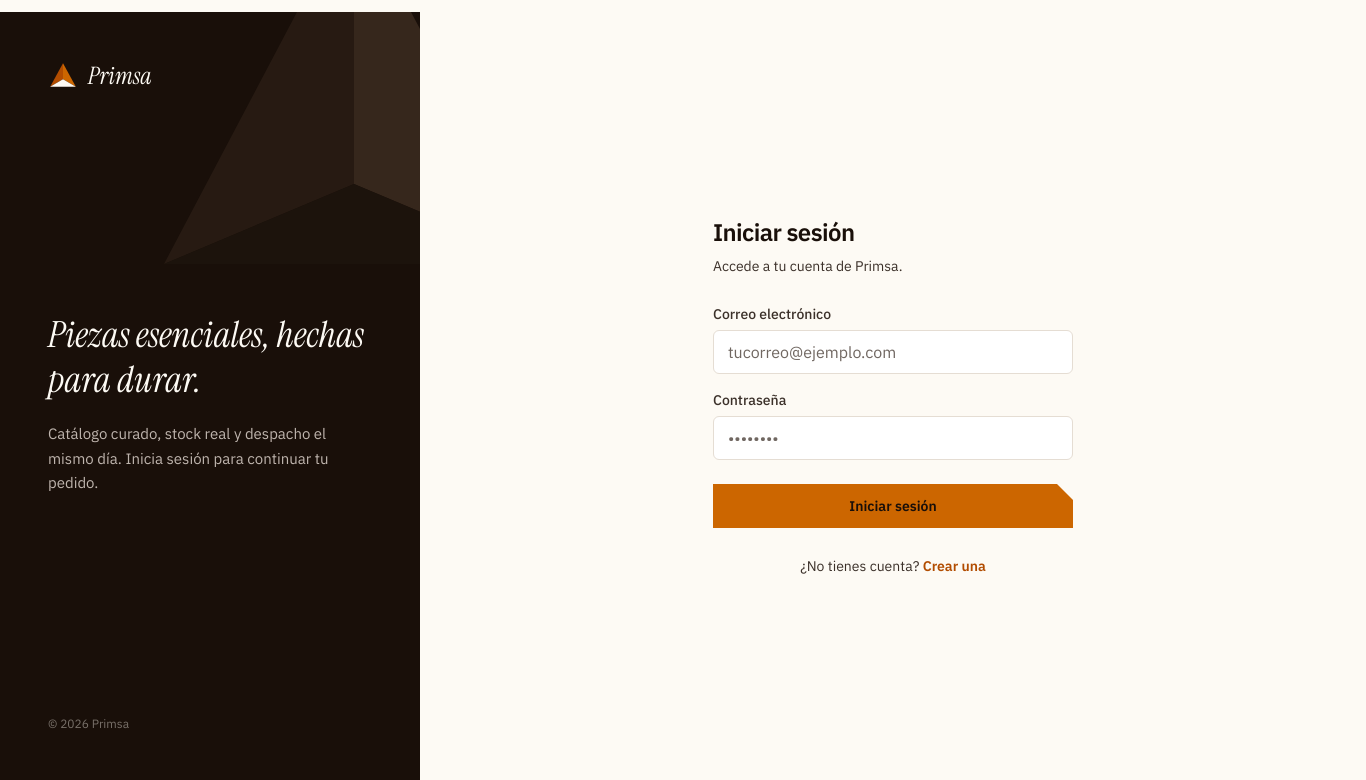
Test: login flow (api mocked, contract verified live — section 4.1) › shows the backend detail message on a 401 instead of a generic error
This screenshot has width=1366, height=780.
Step 1. Type "ana@correo.com" into the field labelled "Correo electrónico" → (893, 352), box [713,330,1073,374]
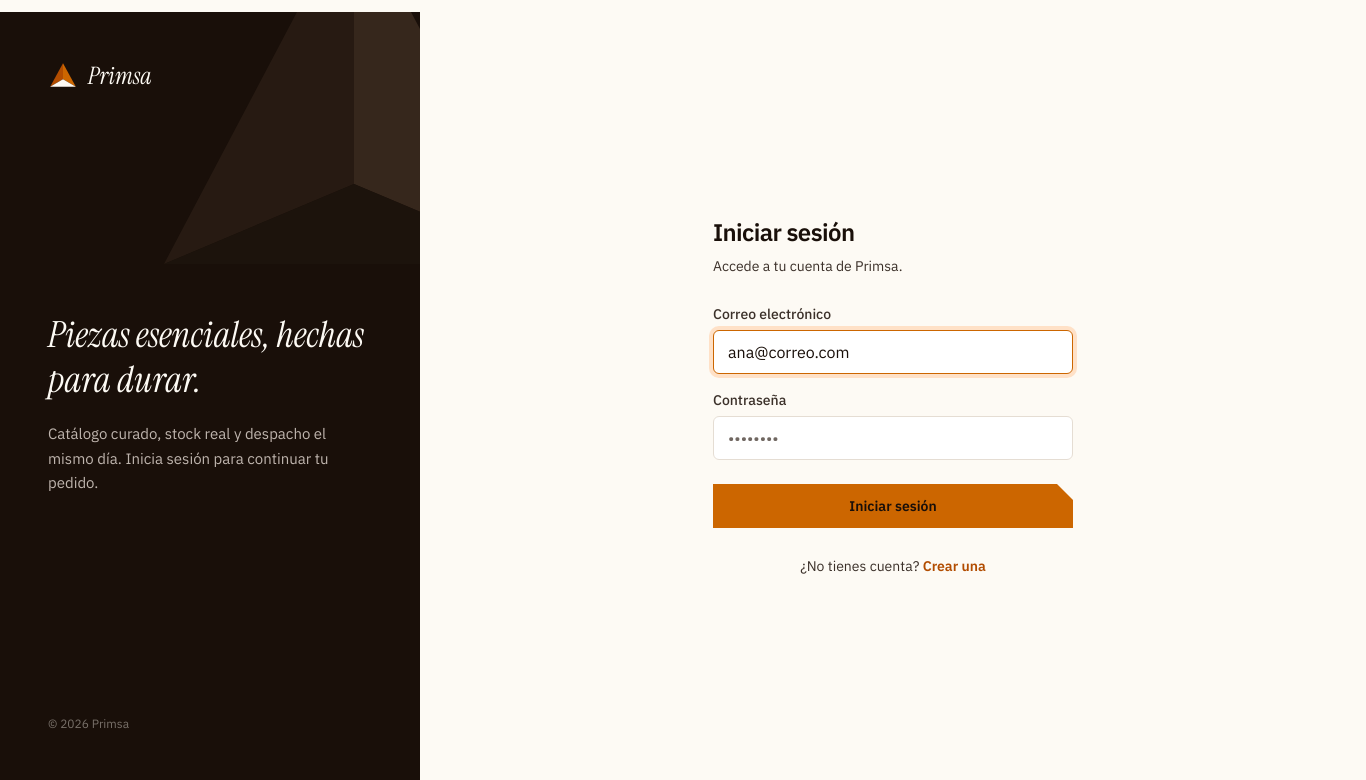
Step 2. Type "wrong" into the password field labelled "Contraseña" → (893, 438), box [713,416,1073,460]
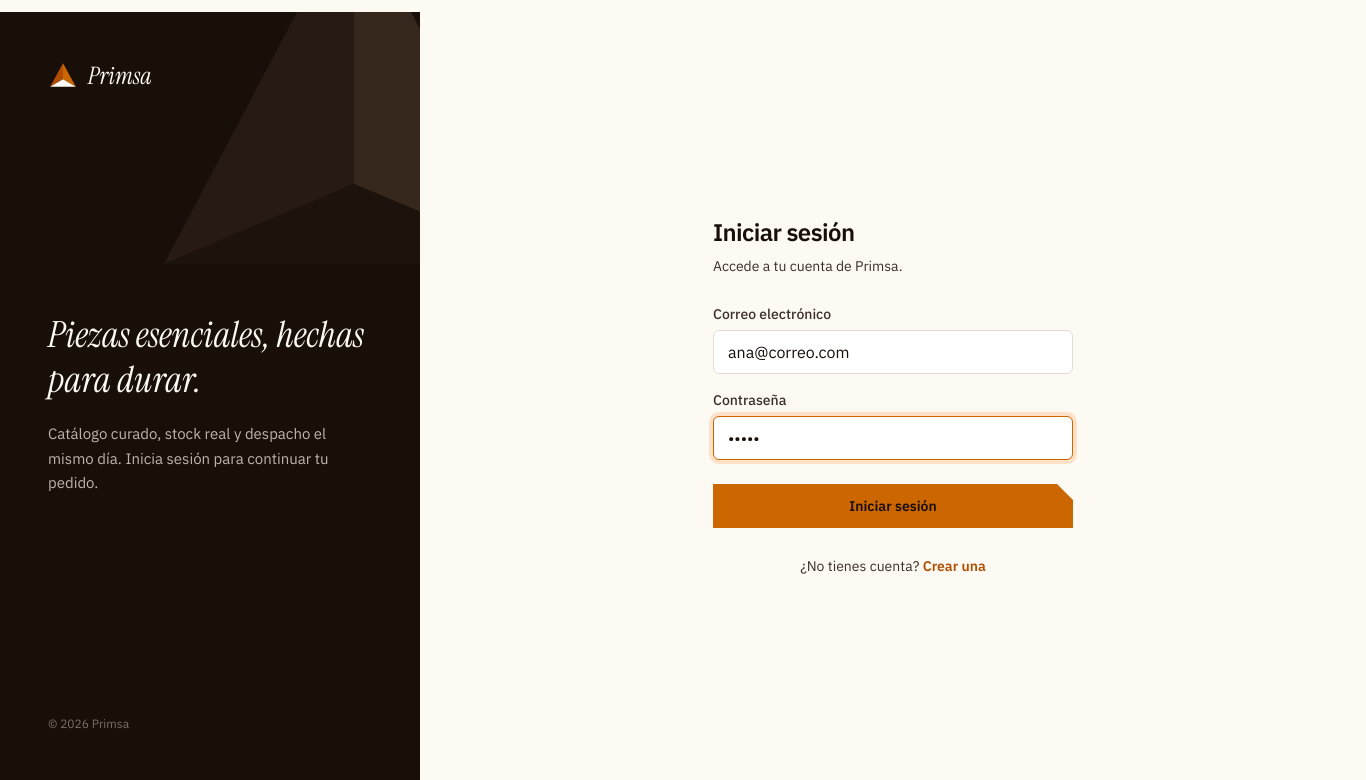
Step 3. Click the button "Iniciar sesión" → click(893, 506), box [713,484,1073,528]
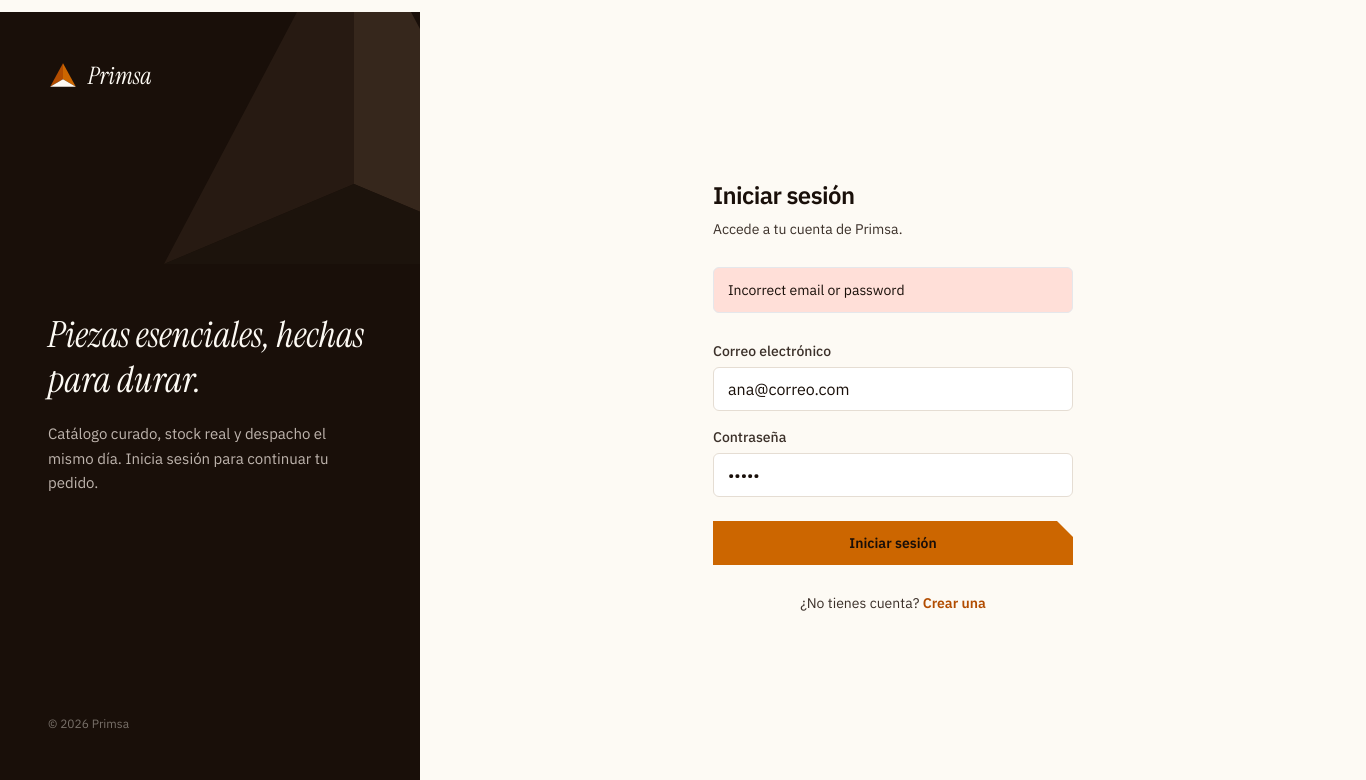
Expected: the text "Incorrect email or password" is shown, [713,267,1073,313]
